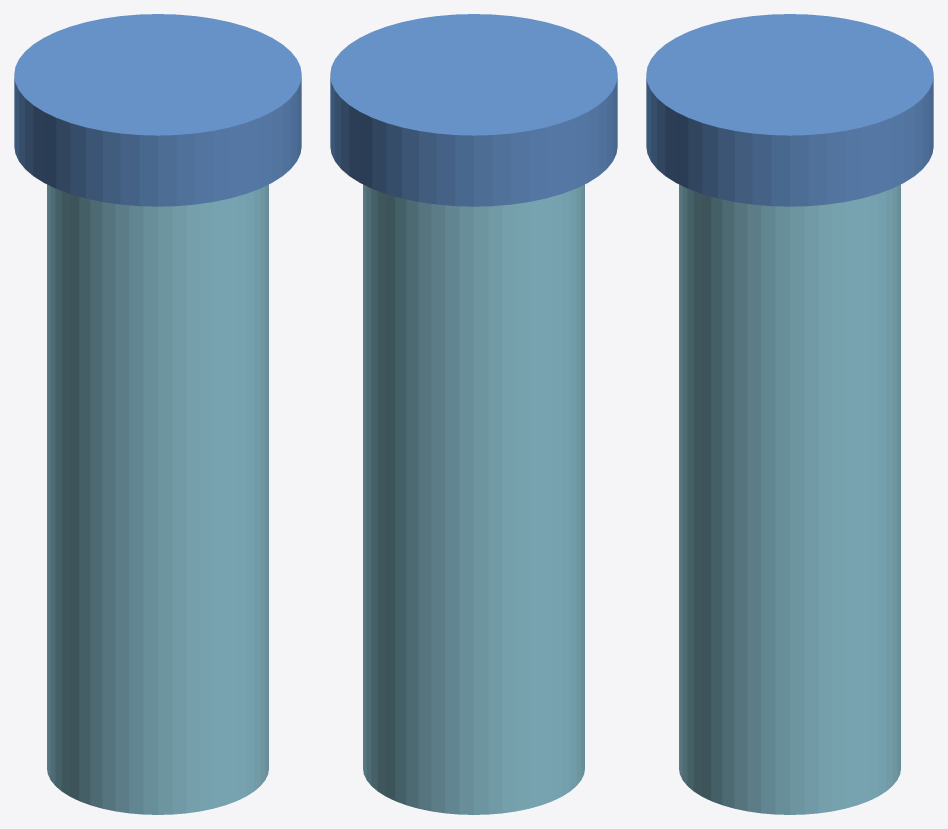
The model's file is vial.glb.
3 renders of one model, left to right at view 1: azimuth 30°, elevation 25°; view 2: azimuth 150°, elevation 25°; view 3: azimuth 270°, elevation 25°, orthographic.
Visible parts, largest first — view 1: vial; view 2: vial; view 3: vial.
Boxes of the visible parts, x1=… form: vial: x1=14, y1=14, x2=301, y2=814; vial: x1=330, y1=14, x2=617, y2=814; vial: x1=646, y1=14, x2=933, y2=814.
Bounding box in the file's own units: 0.044 × 0.117 × 0.044.
